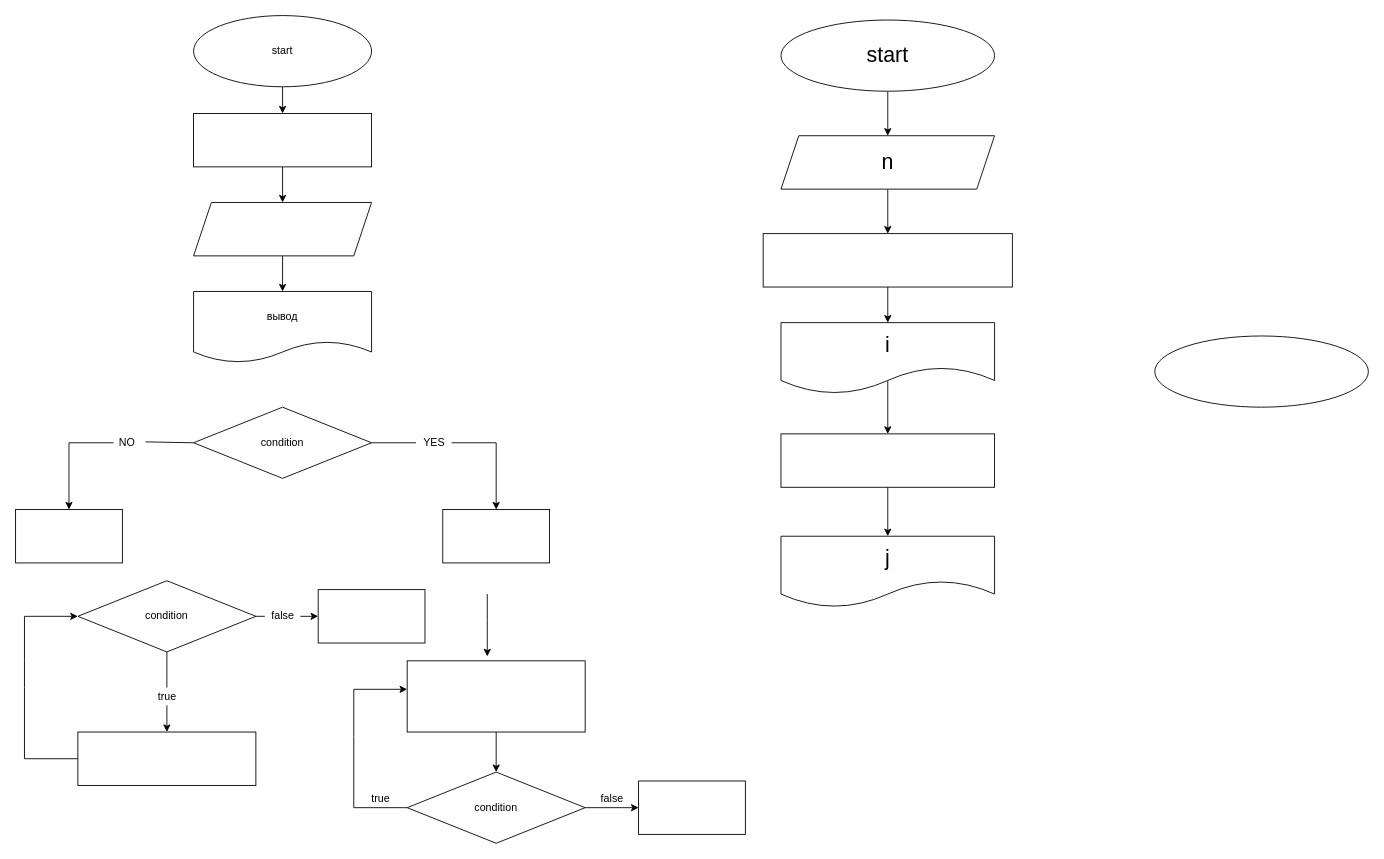
Some shapes in this 1384 by 859 pixel diagram are drawn without their labels. Here are the shapes that lost their labels. From the top down, the centre of each, then its label:
At pixel 282 229: "ввод".
At pixel 887 260: "i=random between 1 , n".
At pixel 1261 371: "end".
At pixel 887 460: "j=i*i".
